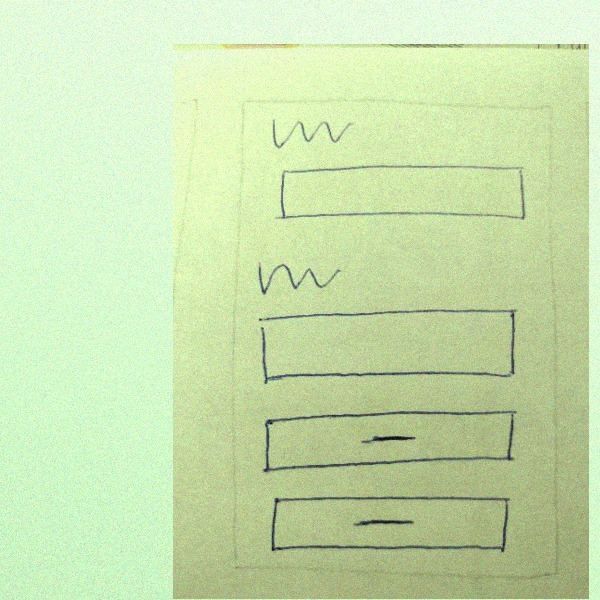button: (254, 406, 524, 472), (266, 489, 520, 559)
text: (251, 253, 344, 299), (262, 111, 360, 154)
text_input: (248, 303, 527, 392), (269, 157, 532, 231)
